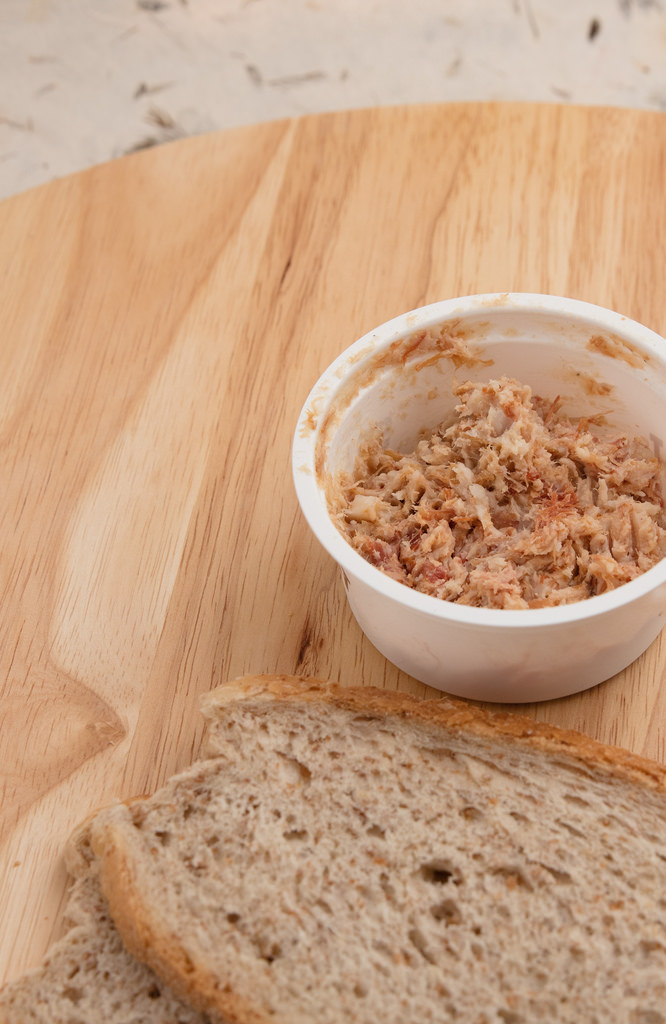slice of bread: (137, 717, 654, 1024)
